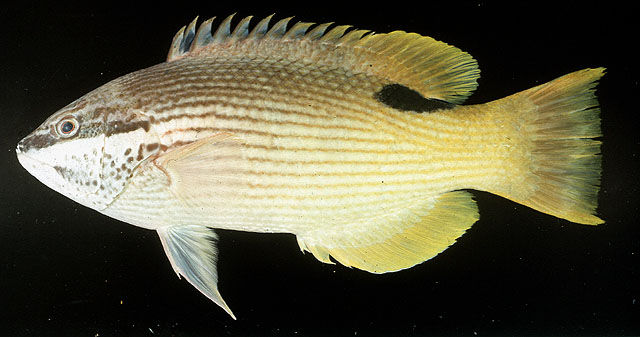fish: (16, 12, 609, 322)
